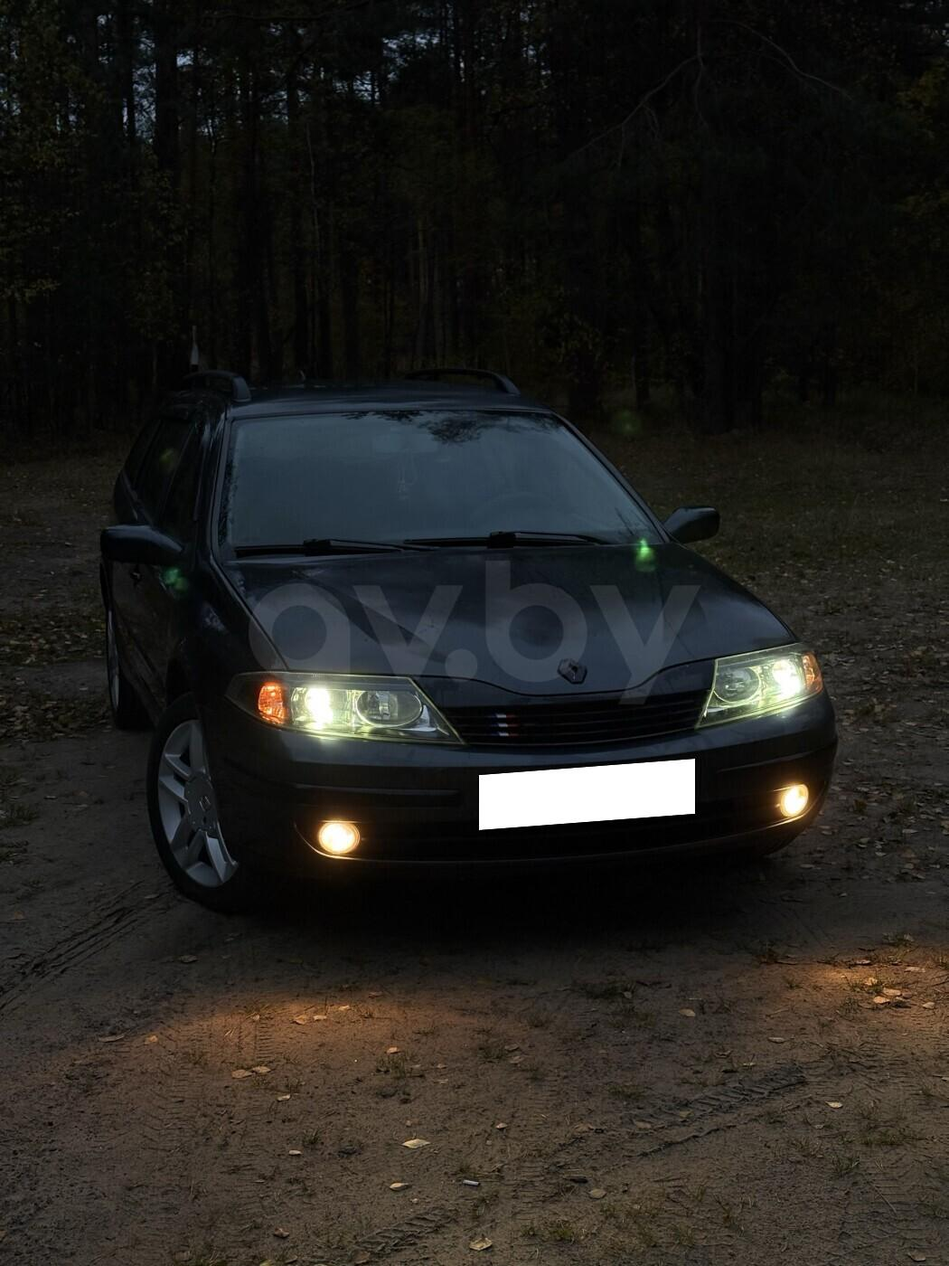Laguna_2001-2005: (98, 371, 836, 910)
